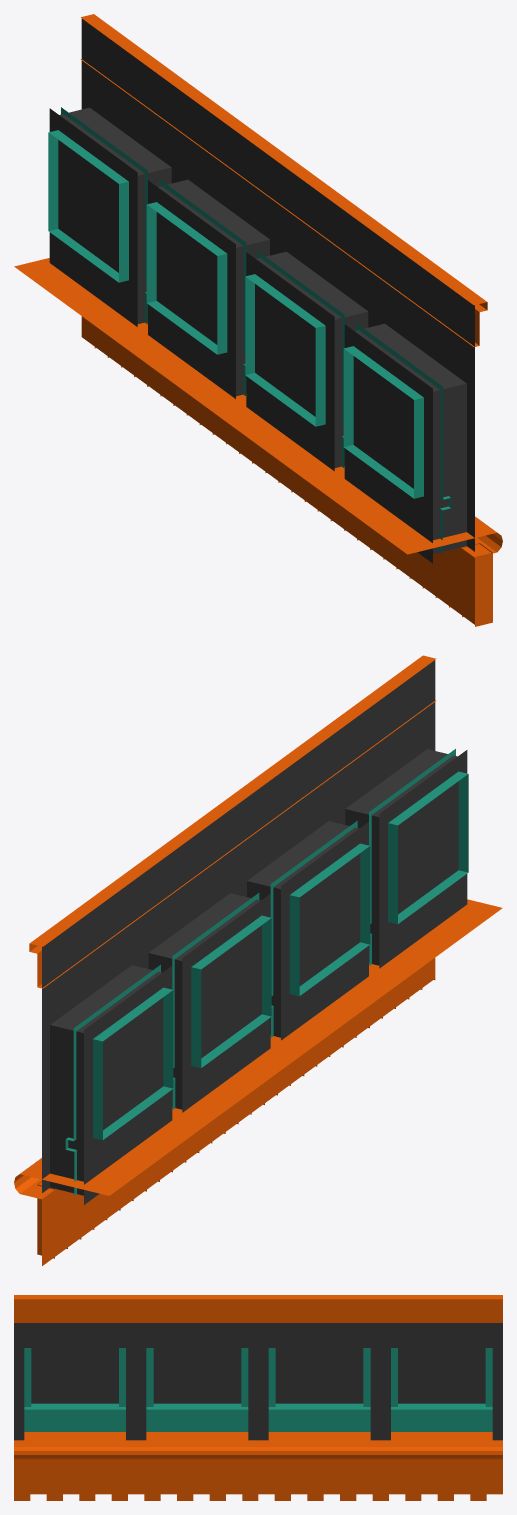
File: SM_B_Build_02.fbx
The picture shows the model from 3 angles, top to bottom: view 1: azimuth 30°, elevation 25°; view 2: azimuth 150°, elevation 25°; view 3: azimuth 270°, elevation 25°; orthographic projection. The views are drawn at different scales.
Parts seen in each view (by area): view 1: SM_B_Build_02, Box085; view 2: SM_B_Build_02, Box085; view 3: SM_B_Build_02, Box085.
Part boxes in pixels (box(x1,y1,x2,y2)): SM_B_Build_02: box(14, 18, 502, 626); Box085: box(80, 14, 487, 347); SM_B_Build_02: box(14, 660, 502, 1265); Box085: box(29, 655, 436, 988); SM_B_Build_02: box(14, 1323, 502, 1500); Box085: box(14, 1295, 502, 1322).
Size of the model in its own units: 160 by 514 by 1140.
